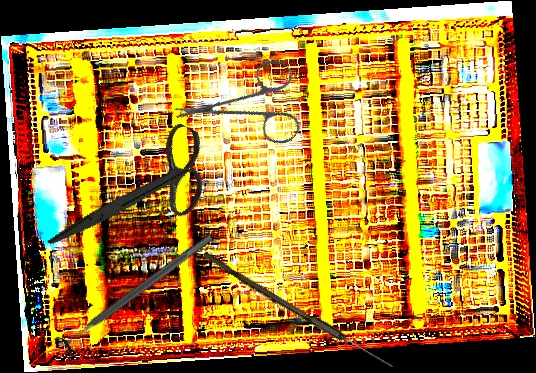Fixation Ring: (53, 225, 220, 362)
Iris Scissors: (44, 92, 228, 296), (171, 28, 326, 183)
Surgical Spoon: (200, 251, 396, 371)
